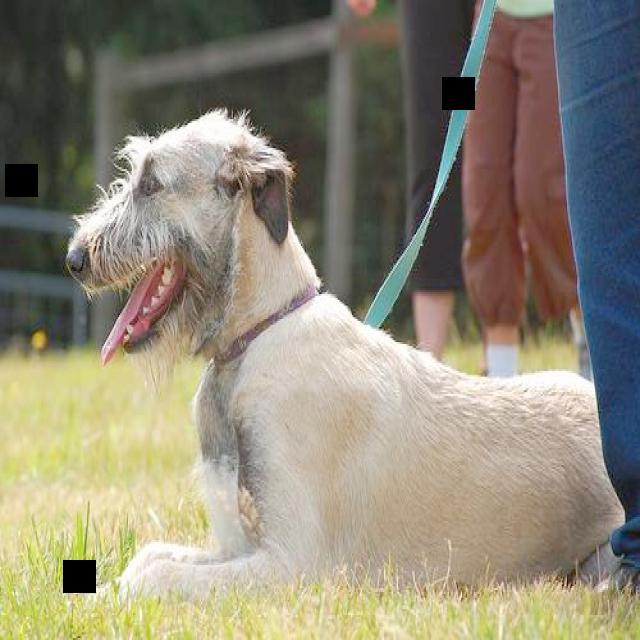adult_dog: (62, 110, 622, 610)
